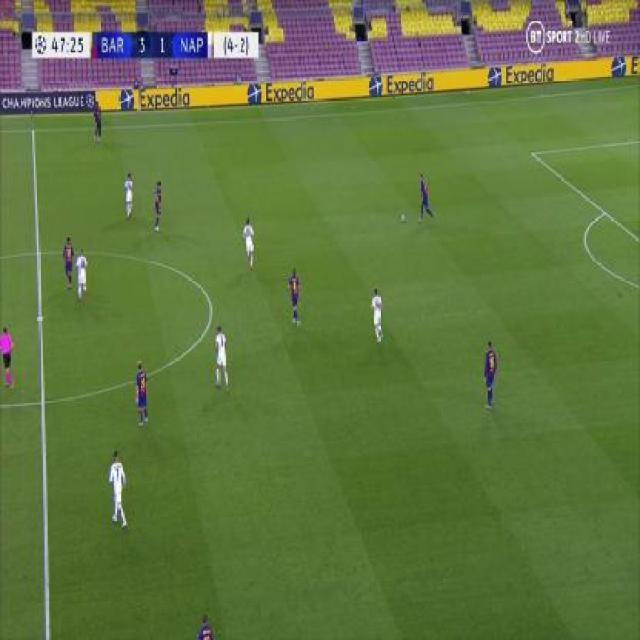ball: (400, 211, 406, 224)
player: (107, 448, 129, 530), (133, 358, 150, 432), (482, 338, 499, 411), (213, 324, 230, 393), (416, 173, 436, 226), (0, 323, 15, 389), (286, 266, 302, 326), (369, 286, 385, 343), (62, 233, 76, 290), (76, 246, 90, 302), (242, 216, 256, 270), (151, 177, 164, 233), (122, 170, 135, 218), (90, 97, 103, 142)
